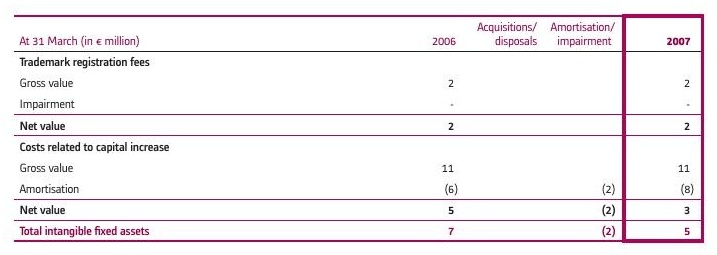table: (0, 0, 717, 255)
